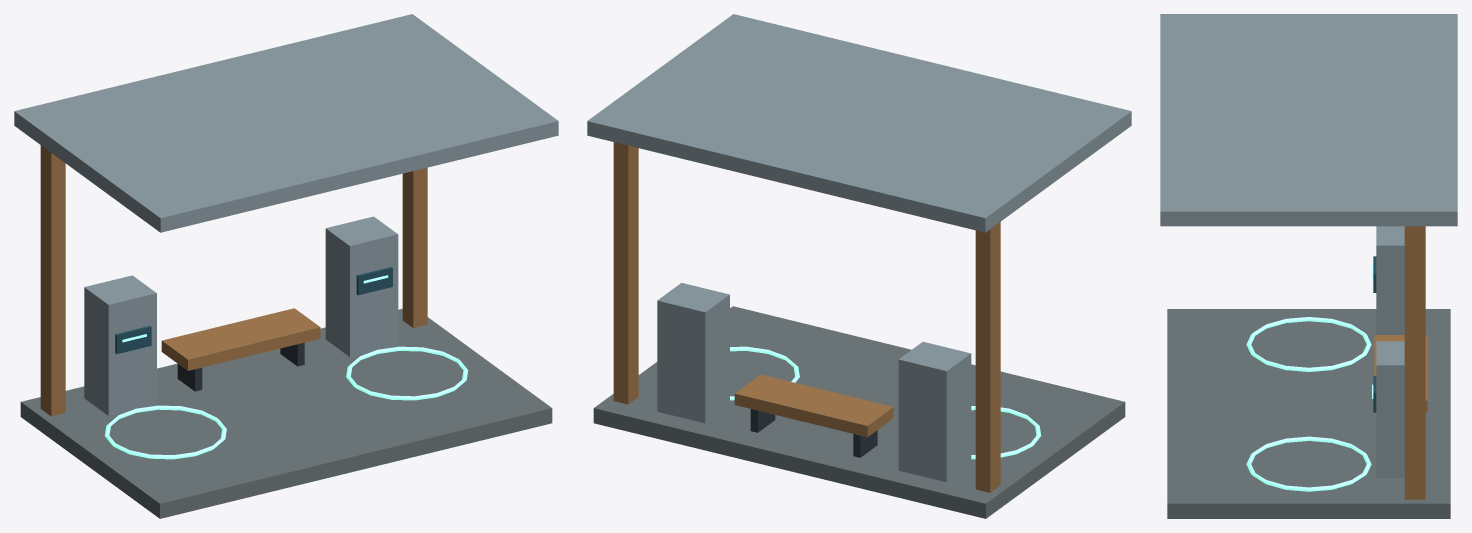
The model's file is meeting-charge.lod2.glb.
3 views of the same model, side by side, from view 1: azimuth 30°, elevation 25°; view 2: azimuth 150°, elevation 25°; view 3: azimuth 270°, elevation 25° (orthographic).
Visible parts, largest first — view 1: structure; view 2: structure; view 3: structure.
Boxes of the visible parts, left/top/right/bottom form: structure: left=14, top=14, right=558, bottom=518; structure: left=587, top=14, right=1131, bottom=518; structure: left=1160, top=14, right=1457, bottom=518.
Bounding box in the file's own units: 6.6 × 4.81 × 4.2.
